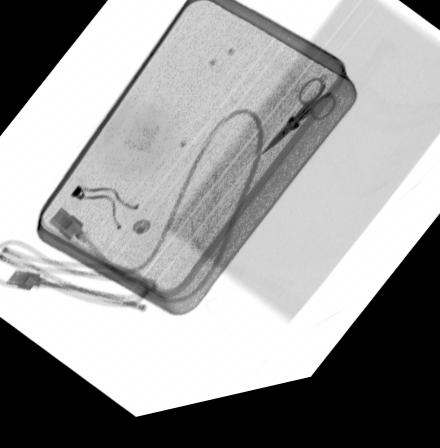Scissors: (260, 88, 337, 166)
